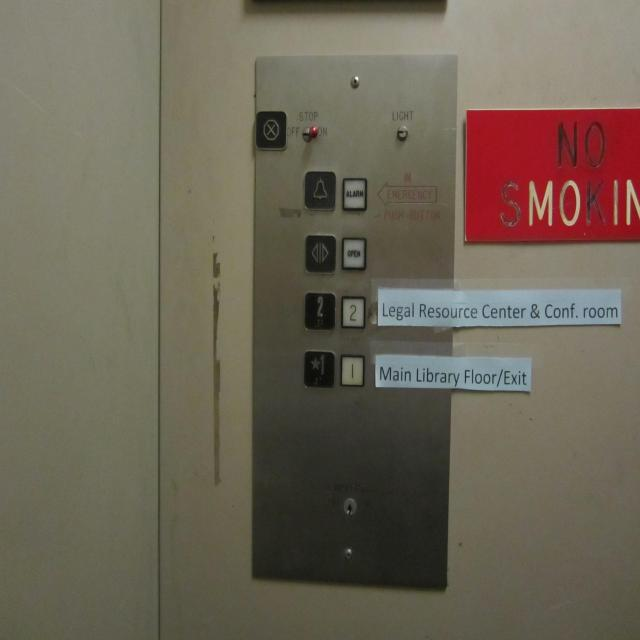1: (340, 353, 365, 388)
2: (304, 292, 336, 332), (340, 294, 366, 330)
alarm: (303, 170, 337, 211)
open: (304, 234, 337, 275)
s1: (302, 349, 336, 390)
stop: (255, 110, 288, 151)
switch: (300, 123, 318, 146)
text: (341, 176, 368, 212), (341, 235, 366, 271)
